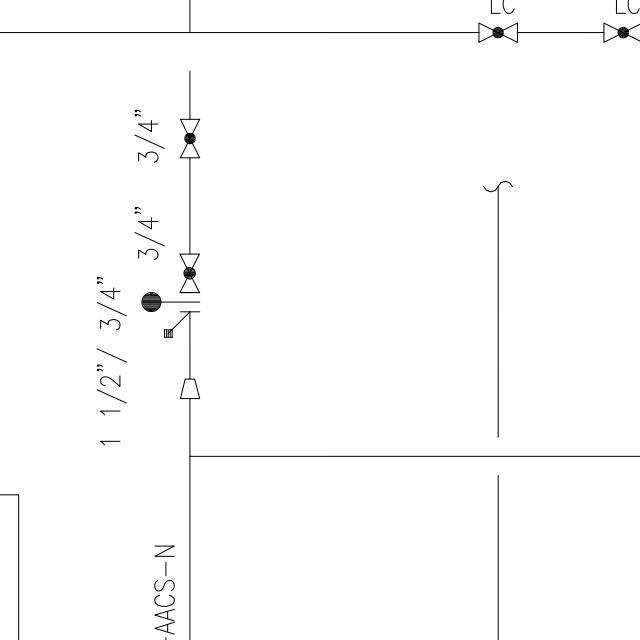BV2: (176, 112, 207, 164), (473, 18, 522, 46), (177, 248, 204, 298), (598, 18, 640, 47)
SP: (175, 371, 204, 407)
